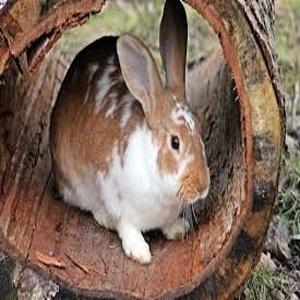rabbit: (50, 0, 209, 263)
